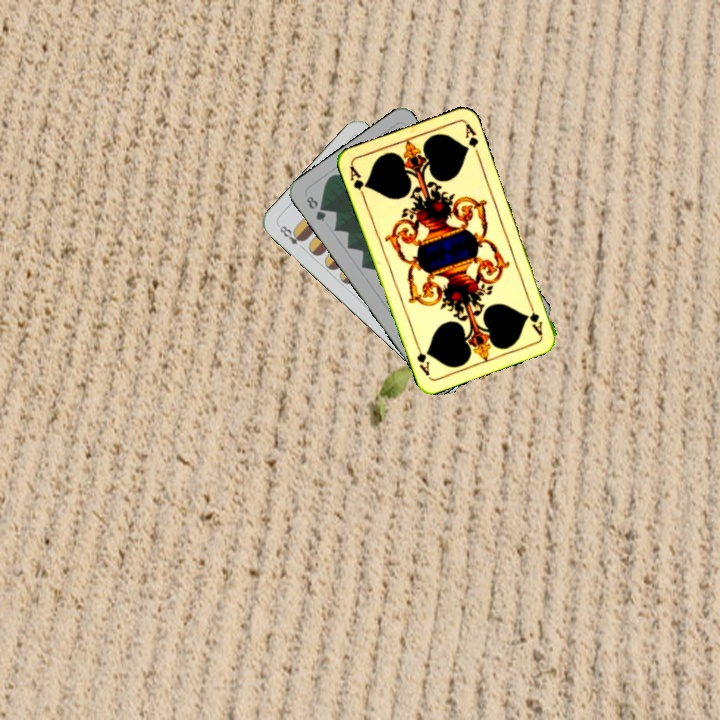E8: (274, 221, 307, 252)
G8: (302, 192, 329, 225)
GA: (345, 162, 370, 202), (524, 298, 545, 338)
